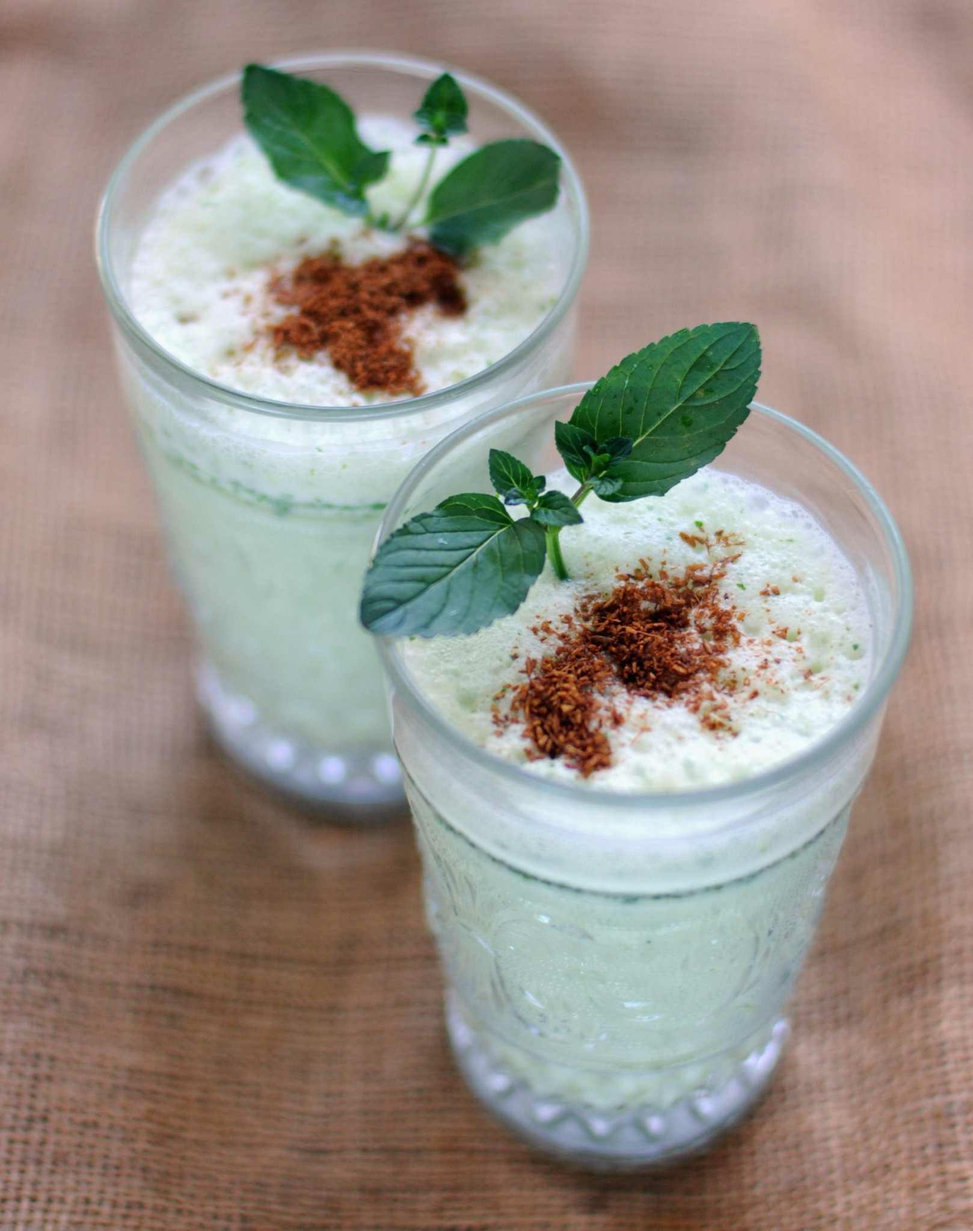Lassi: (396, 453, 877, 1109), (116, 109, 577, 744)
